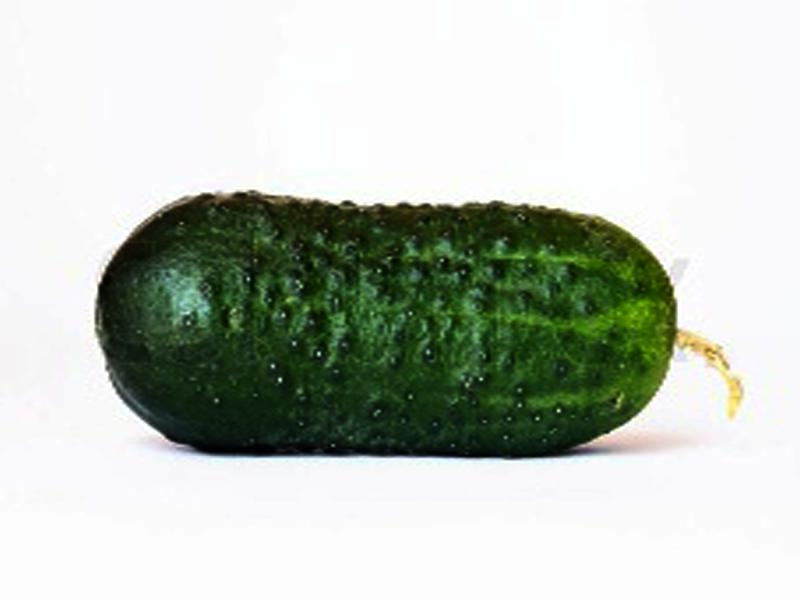Cucumber: (99, 188, 744, 457)
